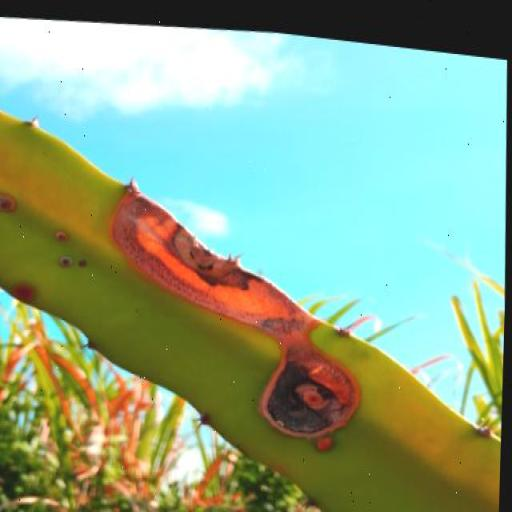stemcanker: (49, 208, 75, 286)
